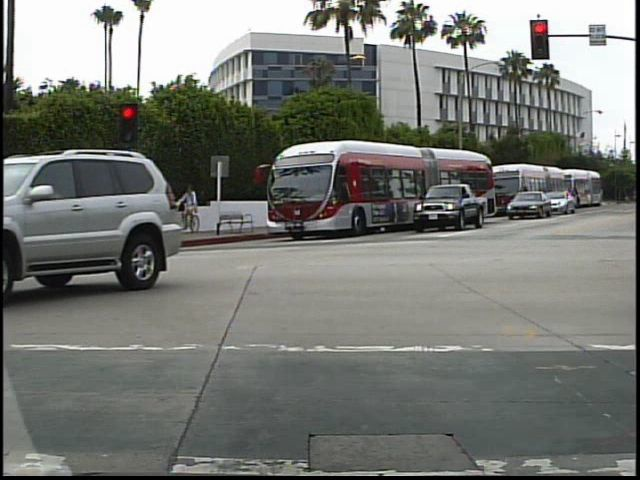person: (181, 183, 204, 238)
